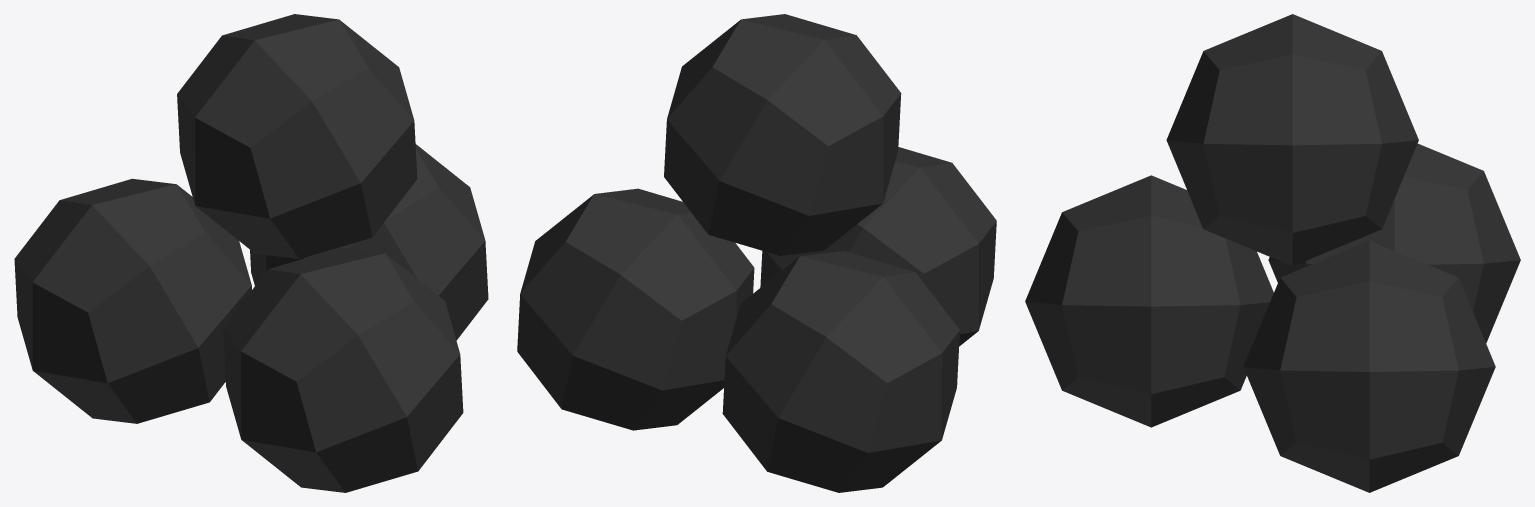
File: Balls.fbx
3 renders of one model, left to right at view 1: azimuth 30°, elevation 25°; view 2: azimuth 150°, elevation 25°; view 3: azimuth 270°, elevation 25°, orthographic.
Parts seen in each view (by area): view 1: Balls; view 2: Balls; view 3: Balls.
Part boxes in pixels (x1,y1,x2,y2): Balls: (14,14,488,492); Balls: (517,14,996,492); Balls: (1025,14,1520,492).
Bounding box in the file's own units: 32.01 × 27.99 × 32.65.
